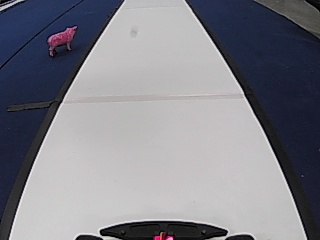pig: (44, 23, 78, 55)
